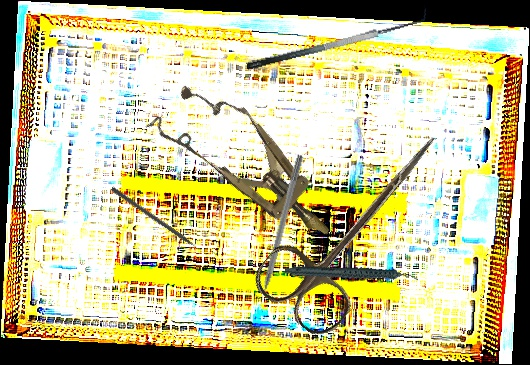Handpiece: (283, 239, 420, 310)
Iris Scissors: (247, 104, 468, 344)
Pusher: (252, 153, 305, 316), (109, 186, 209, 258)
Spatula Surgical: (242, 5, 431, 72)
Speculum: (145, 66, 354, 264)
